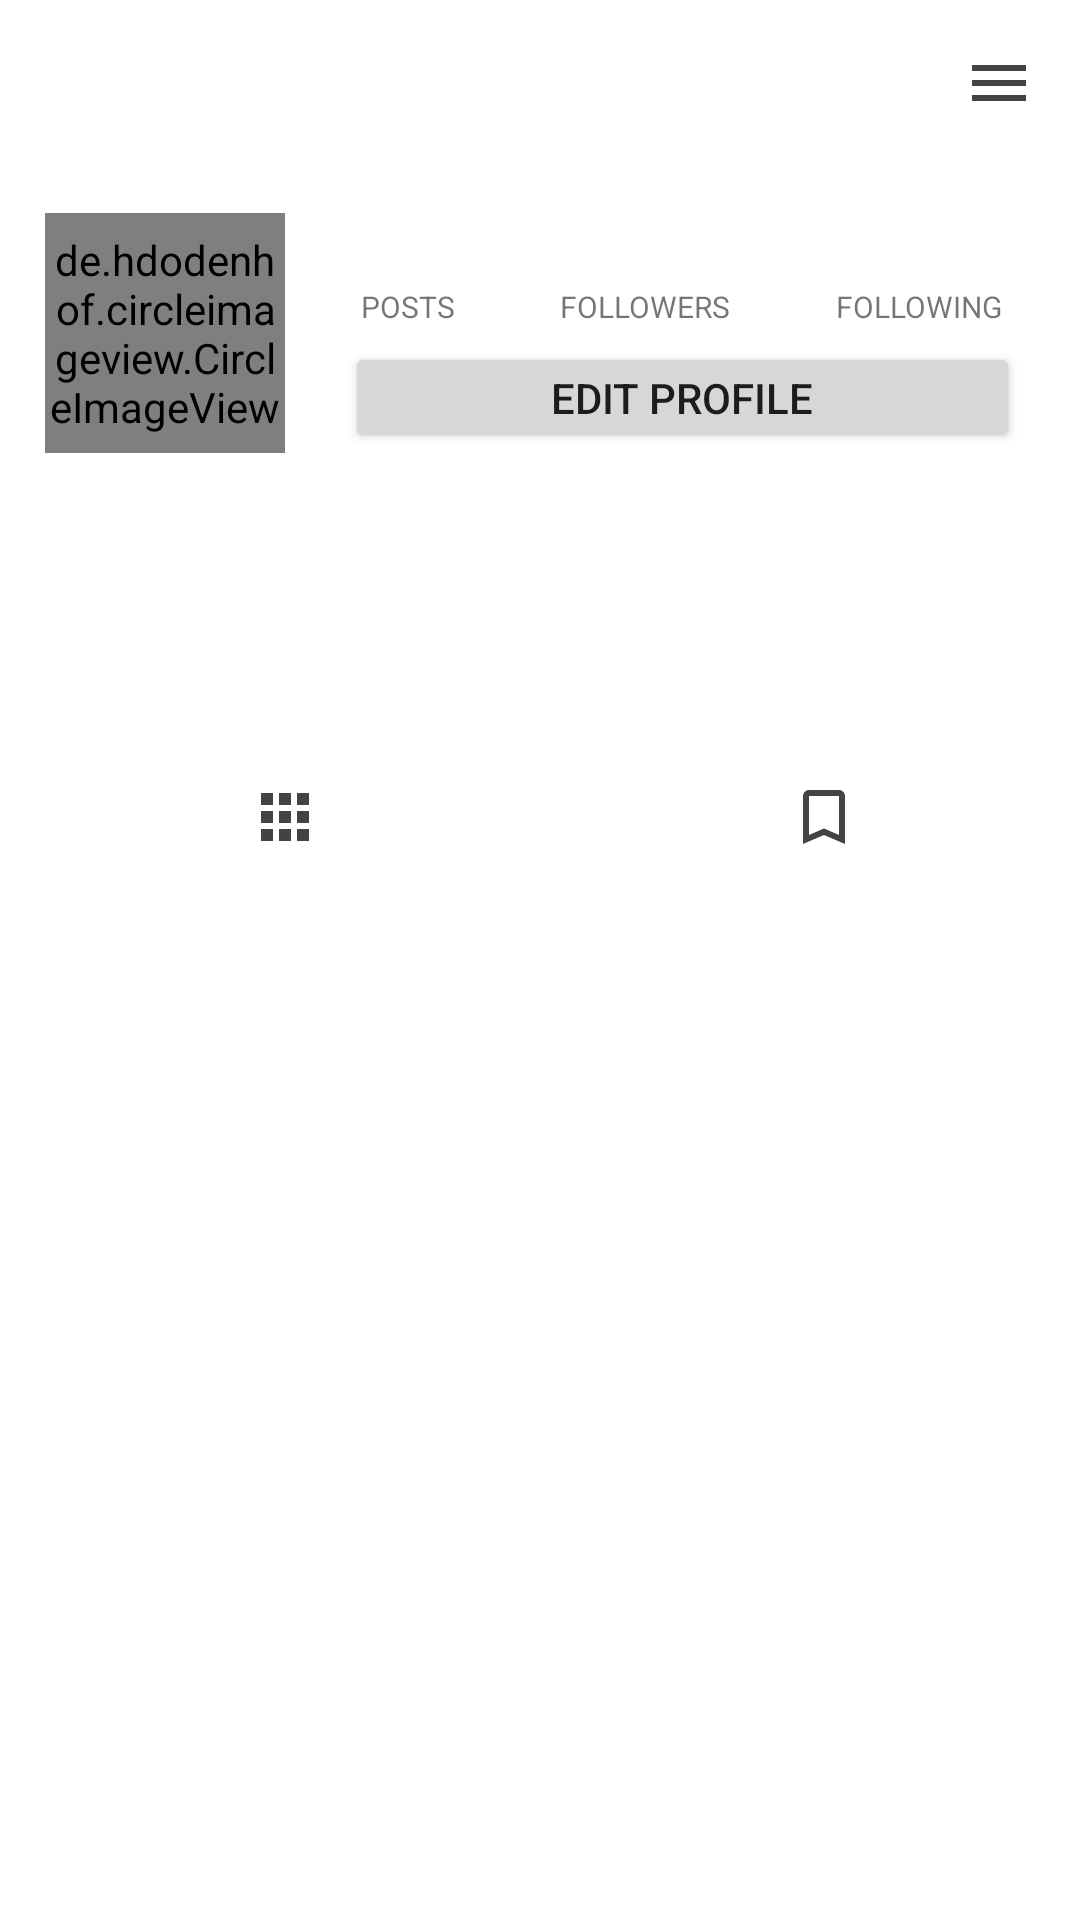

Screen size 1080 × 1920. Icon name, then its center in pixels as point (x, y):
bookmark: point (824, 817)
options: point (999, 83)
